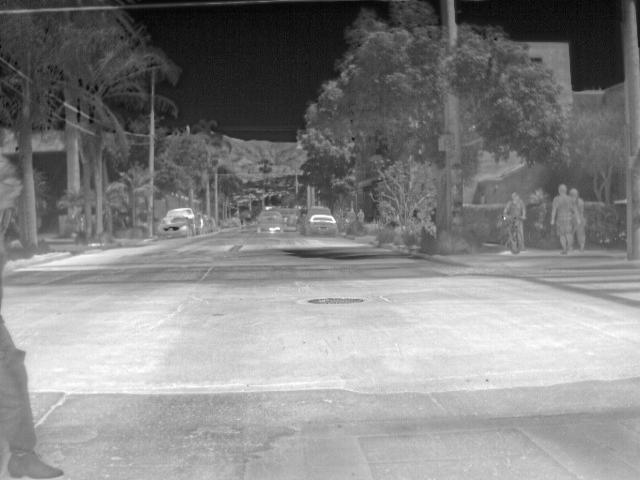car: (168, 206, 199, 232), (158, 218, 194, 240), (257, 211, 286, 235), (308, 212, 339, 234)
person: (549, 181, 575, 255), (500, 190, 526, 248), (568, 186, 590, 248), (348, 207, 360, 225), (355, 208, 365, 225)
